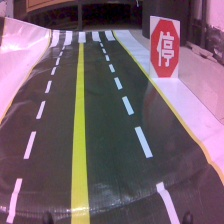stop: (149, 14, 182, 80)
